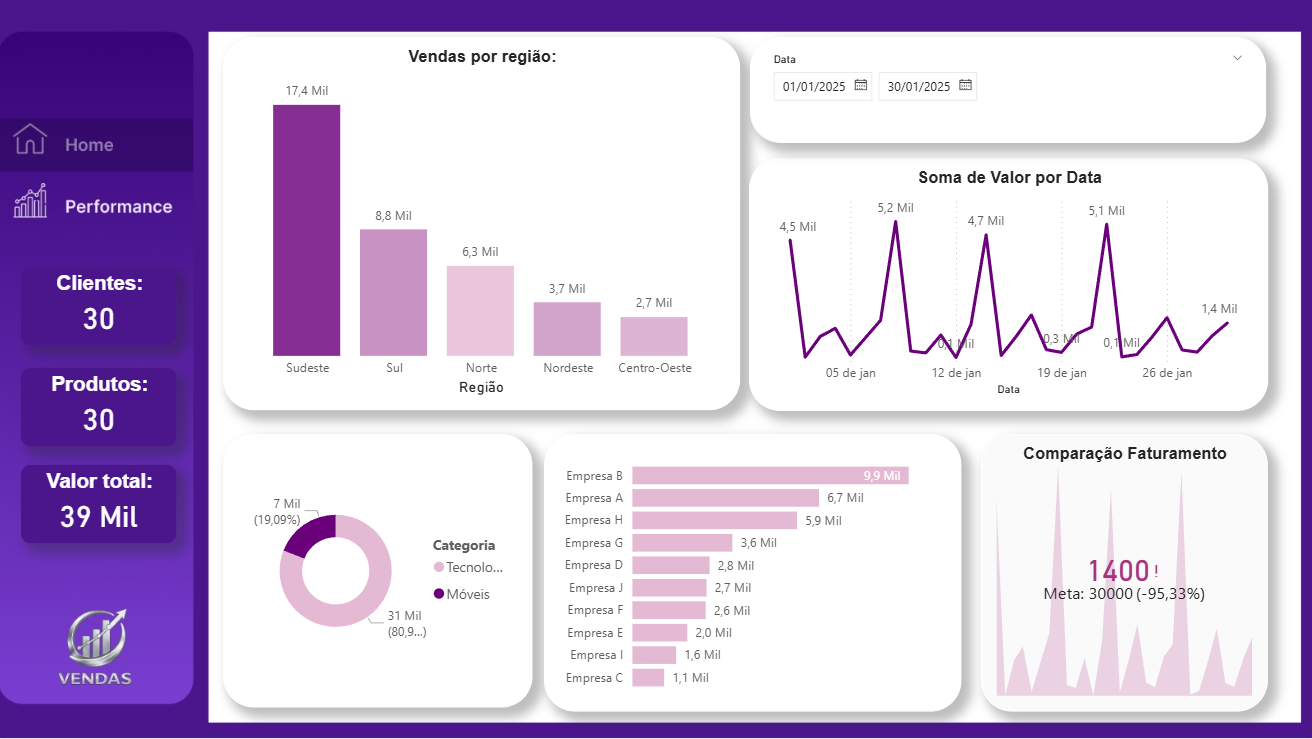

The dashboard page shown, as its layout file describes it:
{"tool":"powerbi","page":{"name":"Visão geral","canvas":[1280,720],"ordinal":0},"visuals":[{"type":"image","box":[0,0,1280,719.5],"z":0},{"type":"columnChart","title":"Vendas por região:","fields":{"Category":["Planilha1.Região"],"Y":["Sum(Planilha1.Valor)"]},"box":[218.8,38.3,503,363.1],"z":1000},{"type":"card","title":"Clientes:","fields":{"Values":["CountNonNull(Planilha1.Cliente)"]},"box":[22.6,261.6,151.1,75.6],"z":2000},{"type":"card","title":"Produtos:","fields":{"Values":["CountNonNull(Planilha1.Produto)"]},"box":[22.6,359.8,151.1,75.6],"z":3000},{"type":"card","title":"Valor total:","fields":{"Values":["Planilha1.Total Faturado"]},"box":[22.6,454.5,151.1,75.6],"z":4000},{"type":"lineChart","fields":{"Category":["Planilha1.Data"],"Y":["Sum(Planilha1.Valor)"]},"box":[730.8,155.6,505.2,245.9],"z":5000},{"type":"donutChart","fields":{"Category":["Planilha1.Categoria"],"Y":["Sum(Planilha1.Valor)"]},"box":[218.8,424,301.1,266.1],"z":6000},{"type":"clusteredBarChart","fields":{"Category":["Planilha1.Cliente"],"Y":["Sum(Planilha1.Valor)"]},"box":[531.2,424,406,269.5],"z":7000},{"type":"kpi","title":"Comparação Faturamento","fields":{"Indicator":["Planilha1.Total Faturado"],"TrendLine":["Planilha1.Data"],"Goal":["Planilha1.Minha Meta"]},"box":[956.3,424,278.6,269.5],"z":8000},{"type":"slicer","fields":{"Values":["Planilha1.Data"]},"box":[731.9,38.3,501.9,102.6],"z":9000},{"type":"actionButton","box":[0,173.1,190.6,56.4],"z":10000}]}

Visuals, with their boxes in screenshot pixels (x1, y1, x2, y2), scaled from the page's 1280x720 canvas onto the 1312x739 screenshot:
image: bbox=(0, 0, 1311, 738)
"Vendas por região:" columnChart: bbox=(224, 39, 740, 412)
"Clientes:" card: bbox=(23, 269, 178, 346)
"Produtos:" card: bbox=(23, 369, 178, 447)
"Valor total:" card: bbox=(23, 466, 178, 544)
lineChart - Planilha1.Data x Sum(Planilha1.Valor): bbox=(749, 160, 1267, 412)
donutChart - Planilha1.Categoria x Sum(Planilha1.Valor): bbox=(224, 435, 533, 708)
clusteredBarChart - Planilha1.Cliente x Sum(Planilha1.Valor): bbox=(544, 435, 961, 712)
"Comparação Faturamento" kpi: bbox=(980, 435, 1266, 712)
slicer - Planilha1.Data: bbox=(750, 39, 1265, 145)
actionButton: bbox=(0, 178, 195, 236)
